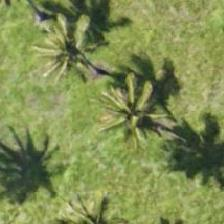coconut_tree: (79, 63, 169, 153), (37, 16, 127, 106), (0, 0, 75, 50)
